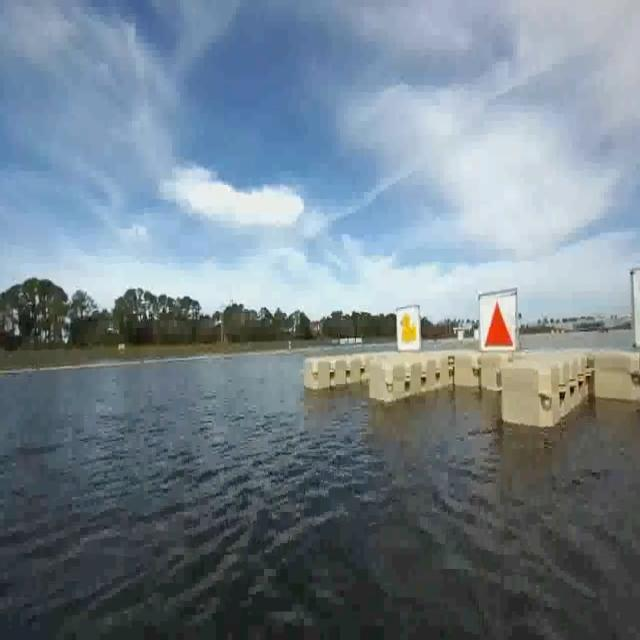red-dot: (479, 295, 516, 352)
yellow-duck: (393, 309, 419, 352)
